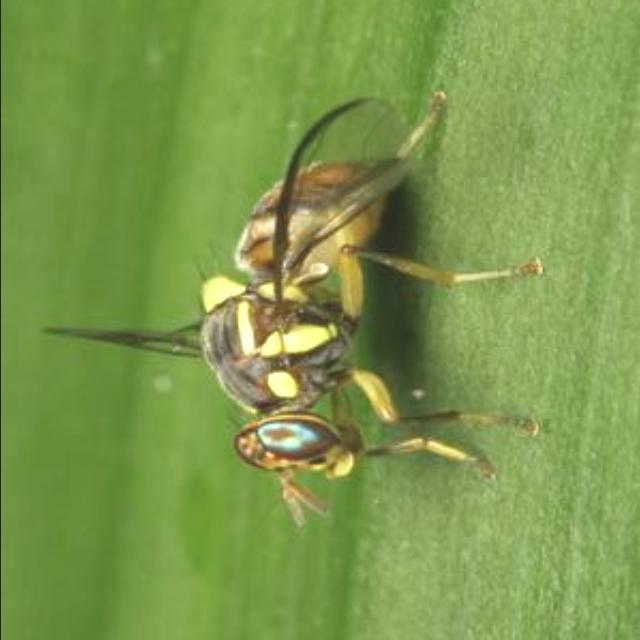melon fly: (33, 96, 573, 584)
